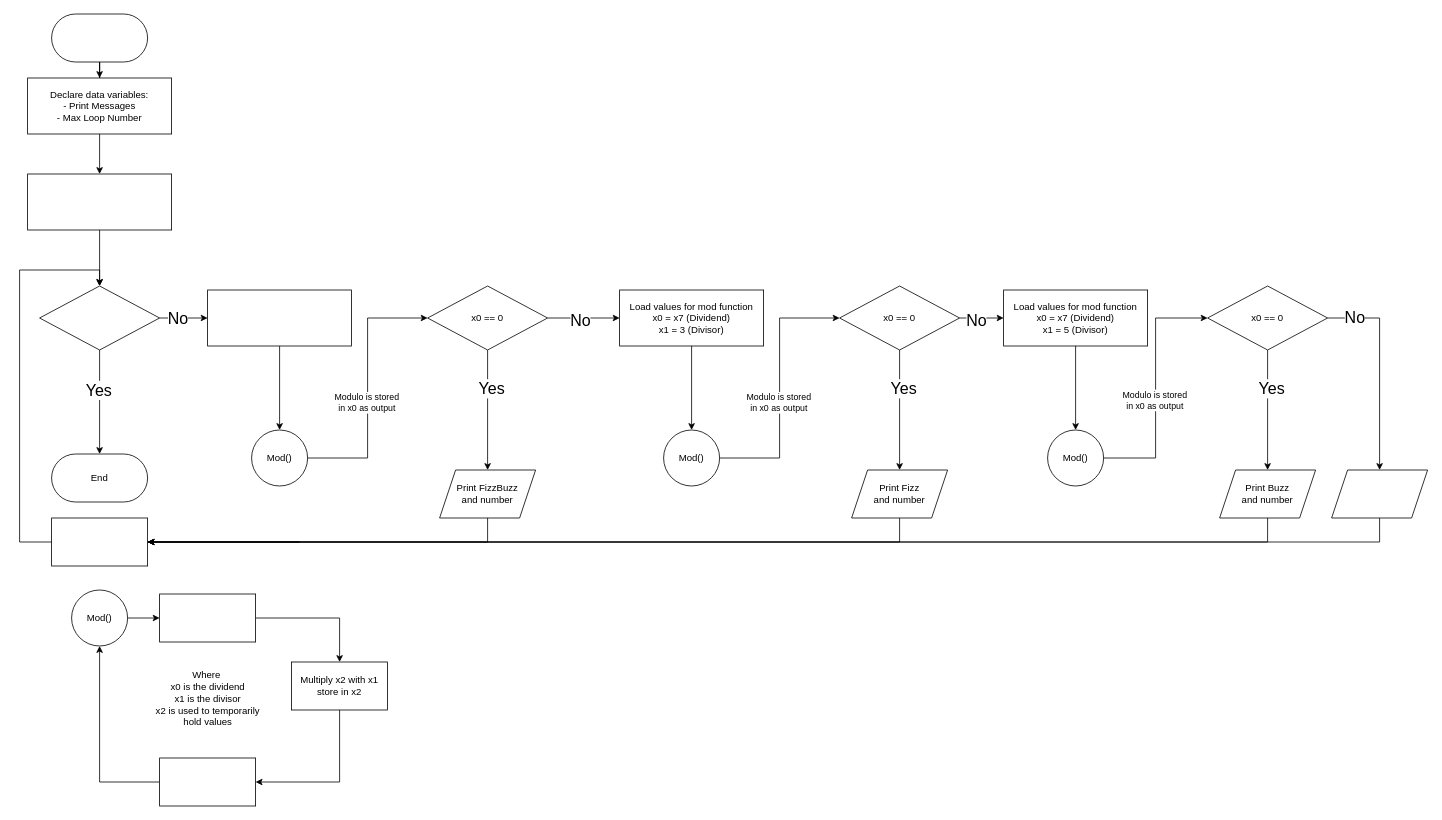
The diagram is 1442 pixels wide and 820 high, and some of its shapes have lost their labels. Each missing label, with the box of its shape:
divide x0 by x1 store in x2: (159, 593, 256, 642)
Load values for mod function x0 = x7 (Dividend) x1 = 15 (Divisor): (207, 289, 352, 346)
Load values into registers: x7 = 1 x6 = Max Loop Number: (27, 173, 172, 230)
Print Number: (1331, 469, 1428, 518)
Start: (51, 13, 148, 62)
subtract x2 from x0 store in x0: (159, 757, 256, 806)
x7 = x7 + 1: (51, 517, 148, 566)
x7 > x6: (39, 285, 160, 350)
